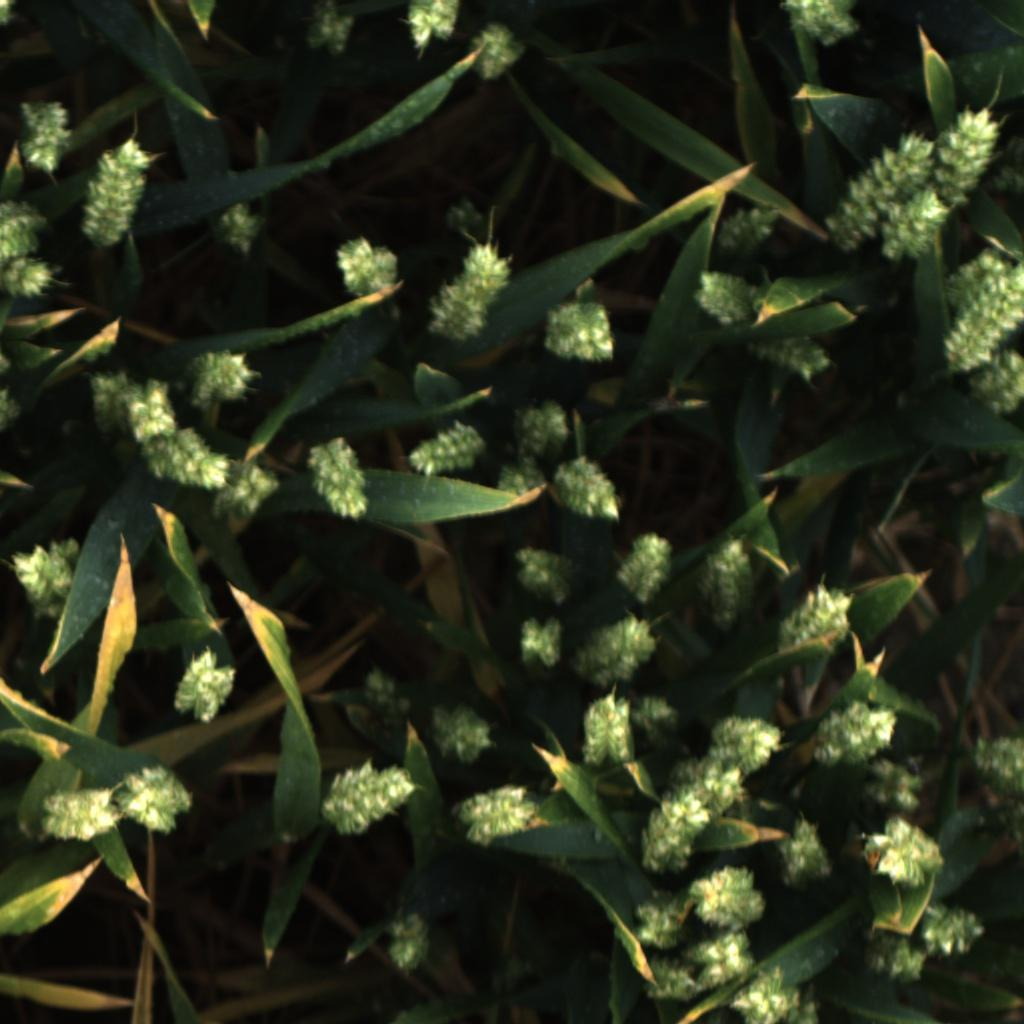0-0: (825, 128, 931, 249), (426, 238, 515, 345), (939, 263, 1024, 373), (76, 136, 158, 249), (806, 694, 909, 778), (318, 751, 416, 837), (924, 104, 1004, 206), (775, 582, 864, 665), (856, 744, 947, 823), (694, 528, 762, 633), (453, 777, 550, 847), (139, 426, 228, 502), (638, 790, 717, 875), (572, 686, 645, 777), (109, 761, 197, 836), (536, 299, 625, 373), (303, 433, 376, 523), (164, 642, 243, 725), (323, 230, 408, 306), (547, 450, 627, 530), (859, 818, 947, 890), (32, 778, 122, 847), (856, 923, 938, 998), (879, 187, 957, 265), (700, 710, 792, 776), (508, 538, 591, 611), (674, 920, 767, 985), (9, 94, 80, 179), (659, 754, 750, 820), (578, 612, 657, 688), (683, 863, 778, 926), (727, 965, 826, 1024), (402, 420, 491, 485), (6, 543, 79, 620), (182, 344, 256, 418), (199, 195, 275, 267), (943, 244, 1015, 320), (774, 812, 839, 896), (752, 316, 837, 380), (778, 0, 866, 61), (615, 525, 681, 606), (423, 695, 498, 765), (374, 906, 444, 981), (108, 374, 182, 443), (624, 888, 696, 957), (510, 390, 577, 464), (219, 450, 286, 523), (920, 898, 994, 964), (685, 266, 762, 329), (464, 16, 531, 87), (965, 720, 1024, 793), (0, 245, 66, 310), (713, 202, 782, 263), (394, 0, 462, 58), (86, 368, 140, 440), (0, 191, 56, 257), (512, 610, 568, 675), (969, 348, 1024, 414), (300, 0, 360, 58), (617, 691, 682, 743), (359, 665, 416, 718), (638, 961, 708, 1002), (494, 457, 553, 502), (438, 194, 493, 236), (0, 385, 26, 439)
